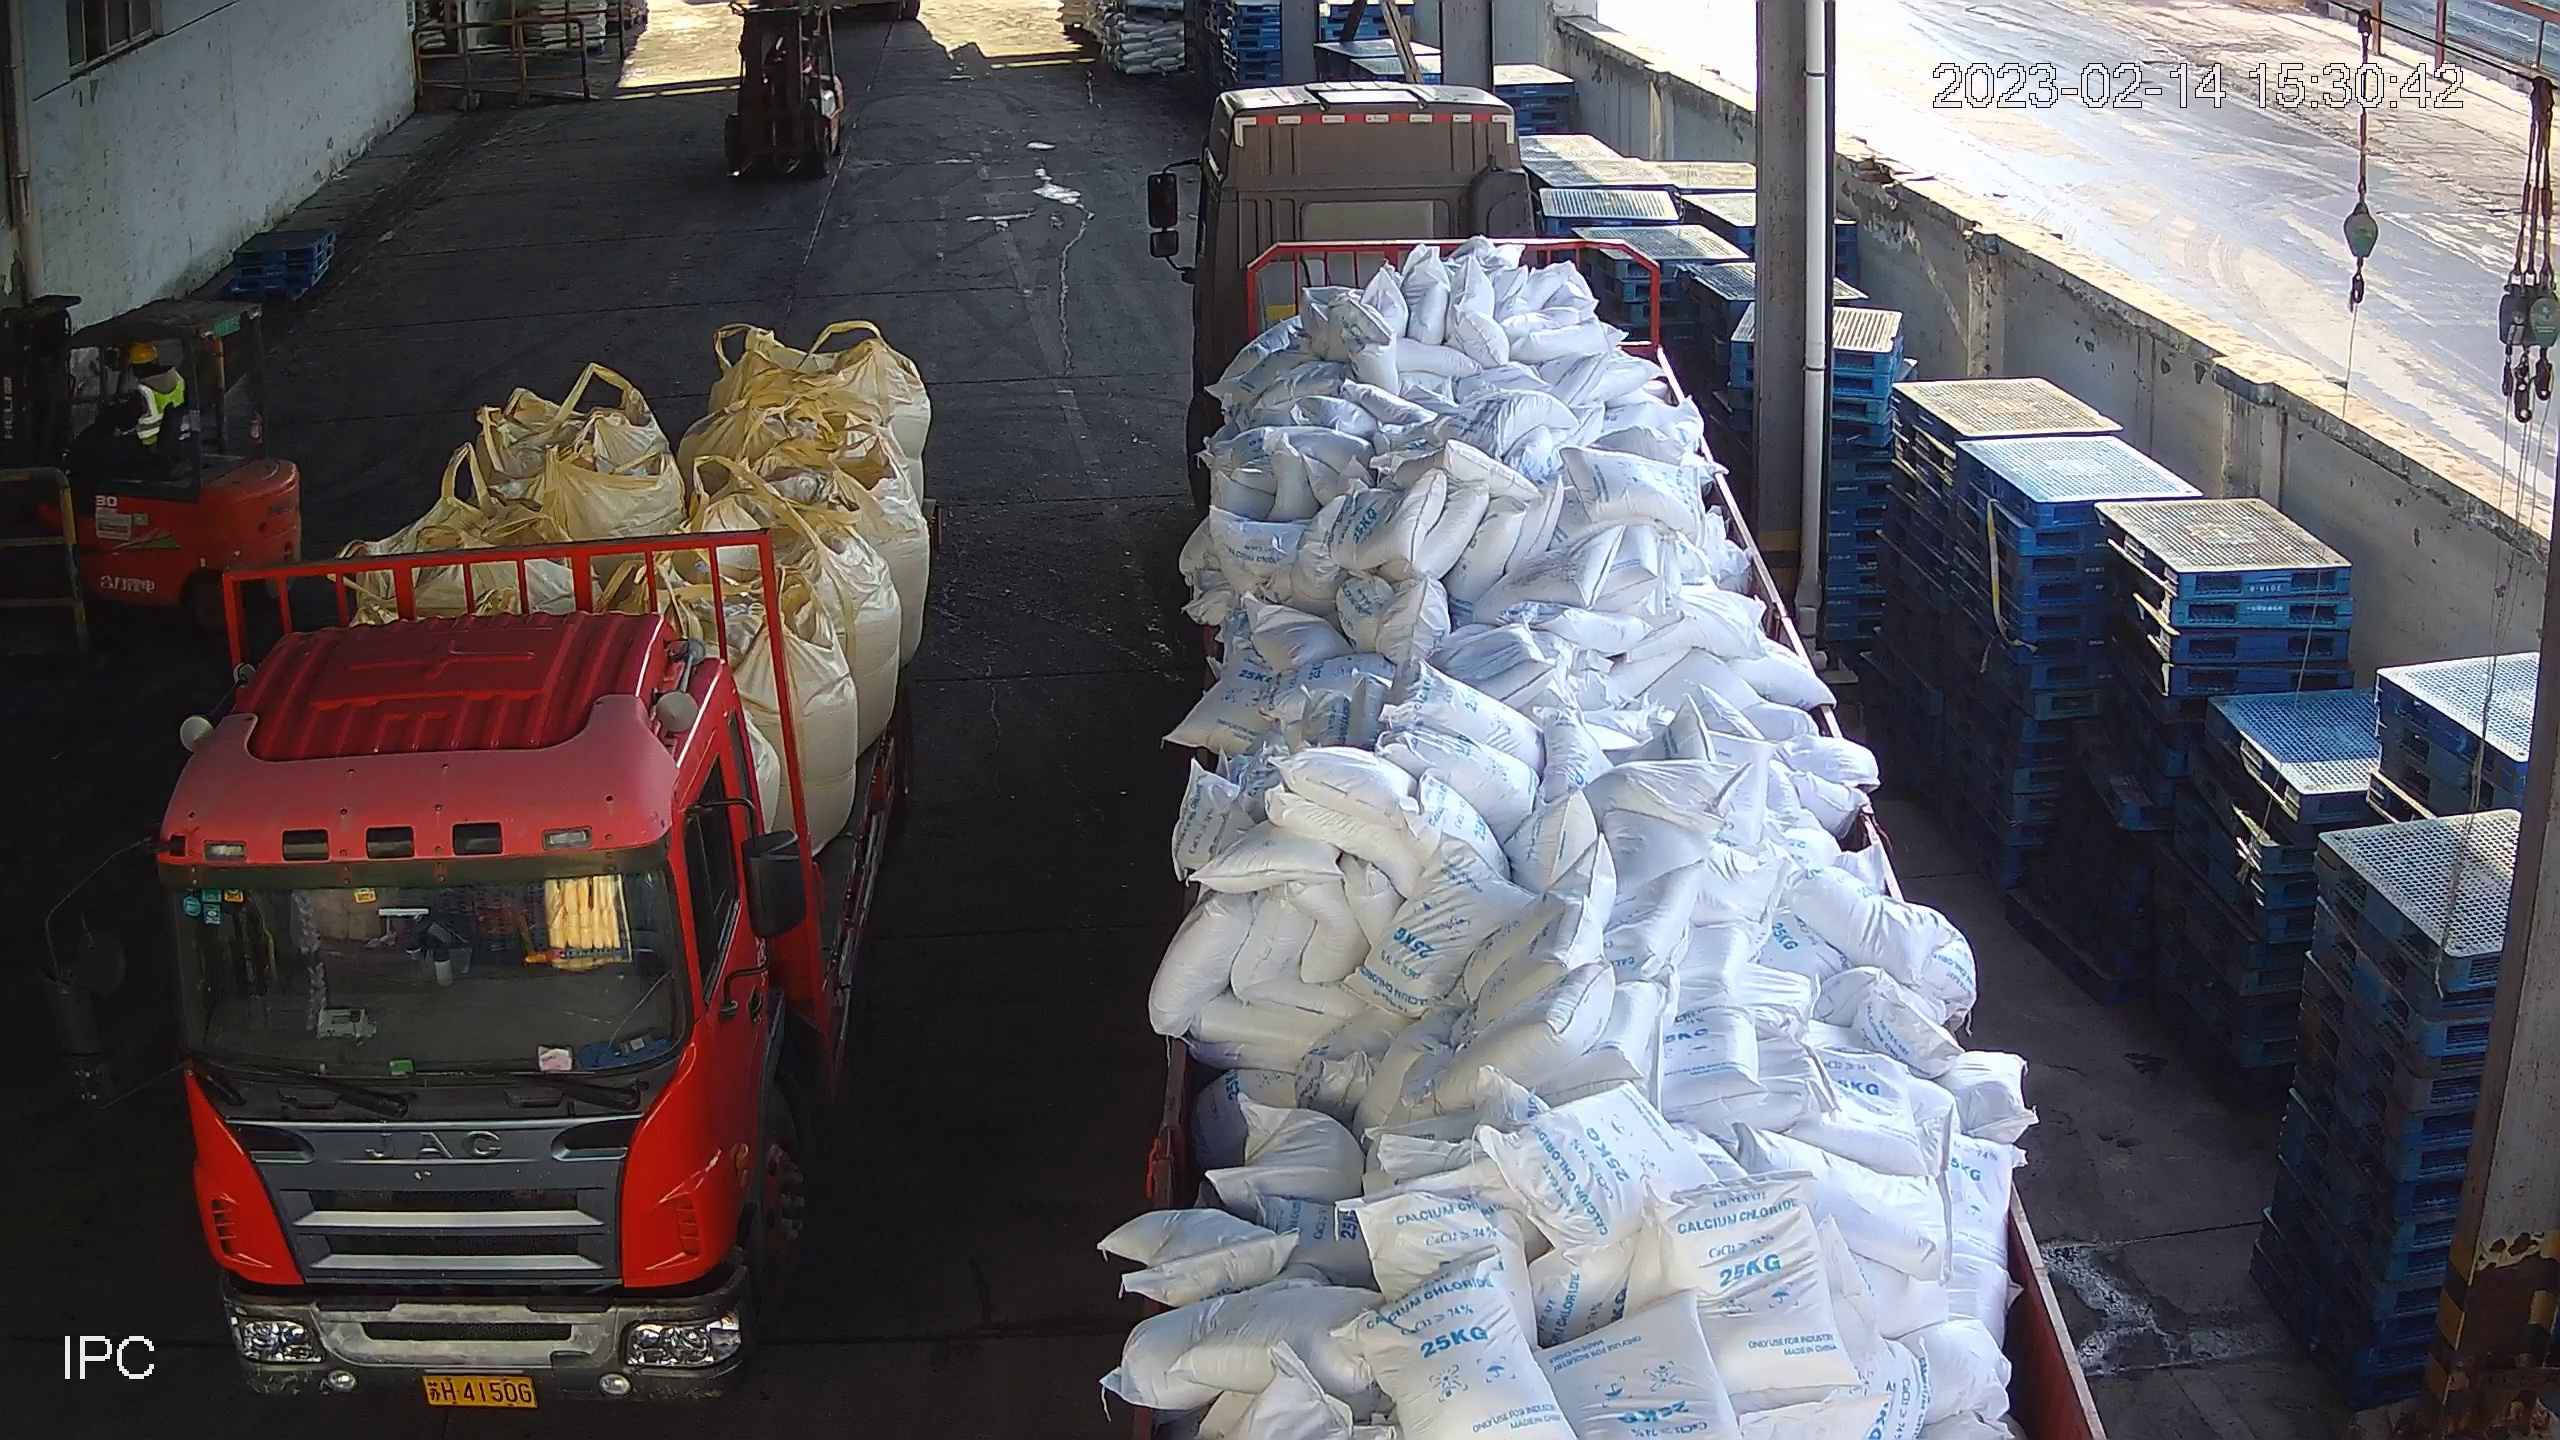head: (125, 340, 184, 409)
helmet: (128, 340, 157, 364)
truck: (1126, 80, 2105, 1440), (33, 496, 941, 1410)
